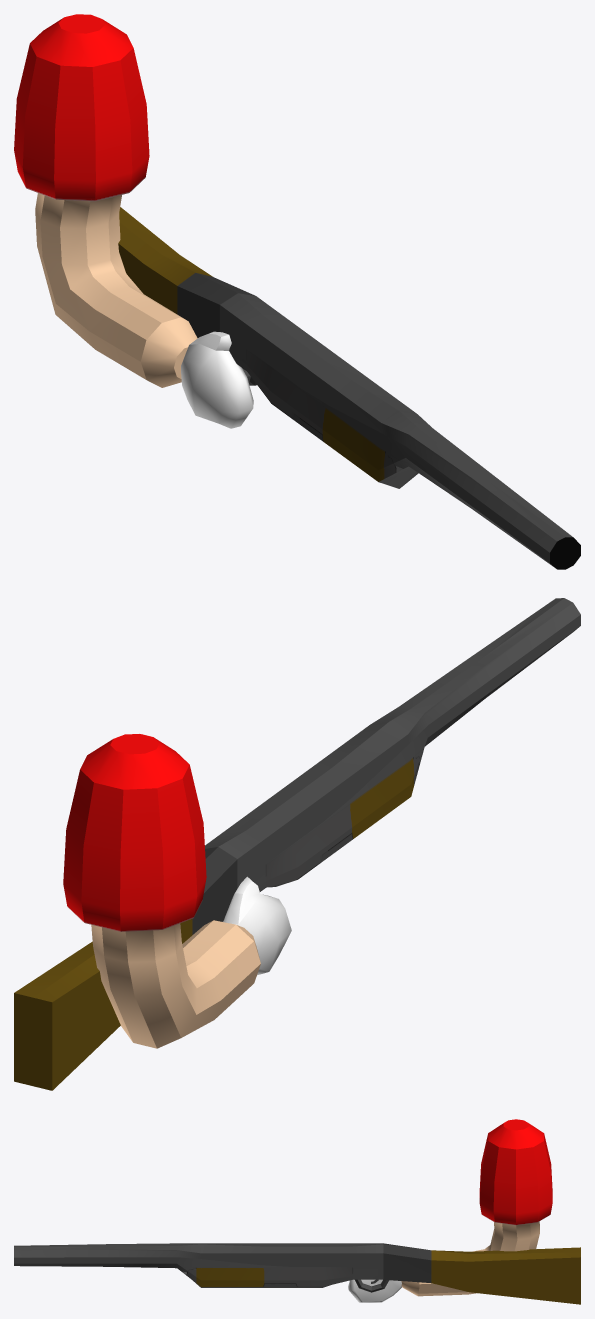
Rendered from sg_ojosama_R_r.obj.
The picture shows the model from 3 angles, top to bottom: view 1: azimuth 30°, elevation 25°; view 2: azimuth 150°, elevation 25°; view 3: azimuth 270°, elevation 25°; orthographic projection. The views are drawn at different scales.
Visible parts, largest first — view 1: R pCylinder4 group5 R, pasted__pCylinder1 pasted__group1 group7 R, R group5 R pasted__pCube3; view 2: pasted__pCylinder1 pasted__group1 group7 R, R pCylinder4 group5 R, R group5 R pasted__pCube3; view 3: pasted__pCylinder1 pasted__group1 group7 R, R pCylinder4 group5 R, R group5 R pasted__pCube3.
Part boxes in pixels (bbox=[...]): R pCylinder4 group5 R: bbox=[14, 14, 197, 387]; pasted__pCylinder1 pasted__group1 group7 R: bbox=[118, 207, 580, 569]; R group5 R pasted__pCube3: bbox=[181, 331, 253, 428]; pasted__pCylinder1 pasted__group1 group7 R: bbox=[14, 598, 580, 1090]; R pCylinder4 group5 R: bbox=[63, 734, 260, 1048]; R group5 R pasted__pCube3: bbox=[222, 876, 291, 975]; pasted__pCylinder1 pasted__group1 group7 R: bbox=[14, 1243, 580, 1304]; R pCylinder4 group5 R: bbox=[401, 1119, 552, 1296]; R group5 R pasted__pCube3: bbox=[348, 1279, 401, 1302].
Bounding box in the file's own units: 0.2261 × 0.5598 × 1.66.
Materials: 1 (1 with a texture image).
